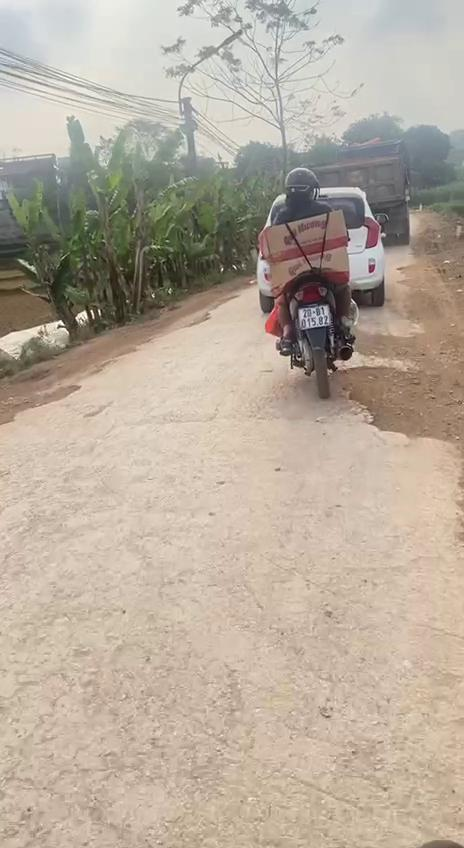pothole: (329, 356, 464, 448)
